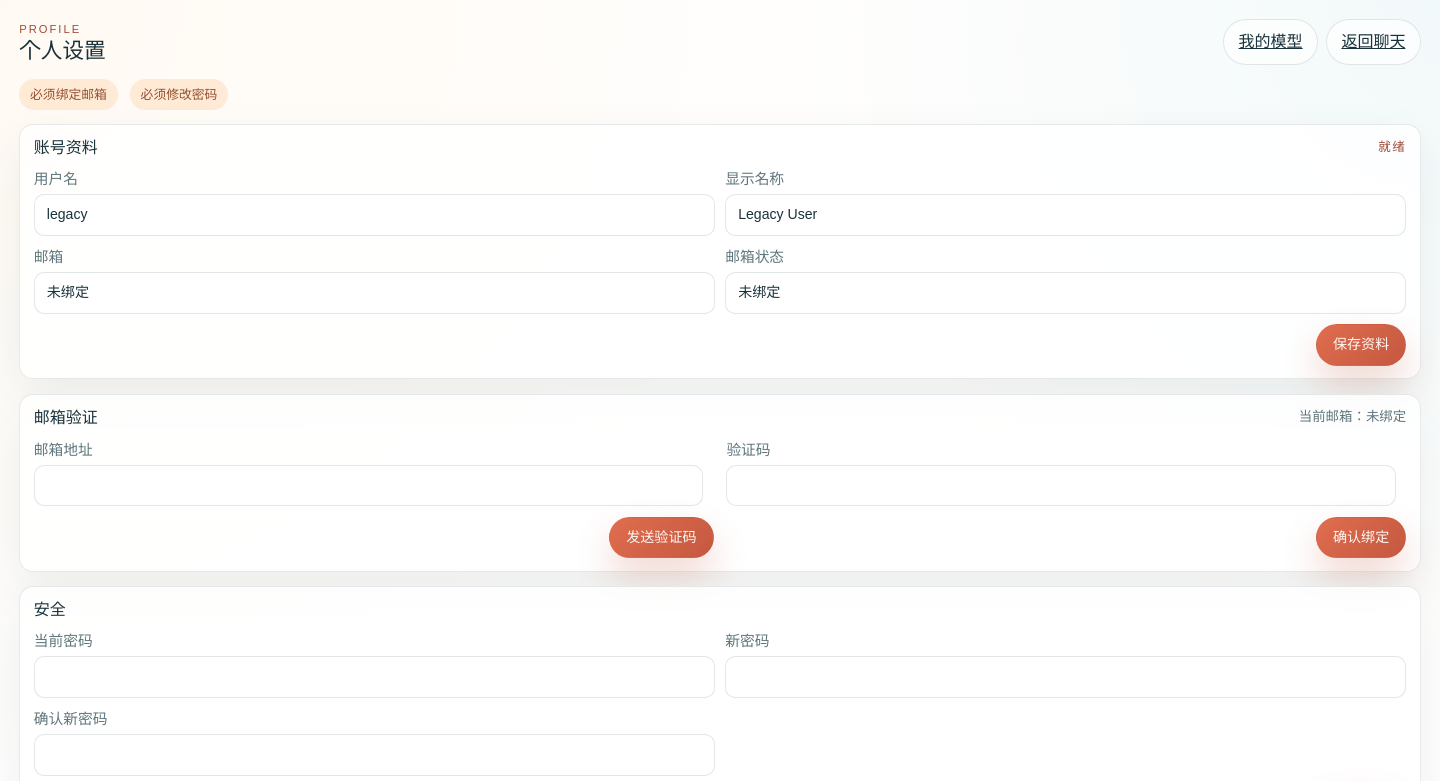
Test: ProfileView › starts email binding verification and confirms the code
Type " bound@example.com " into the field labelled "邮箱地址" at [368, 485], box x1=34 y1=465 x2=703 y2=506
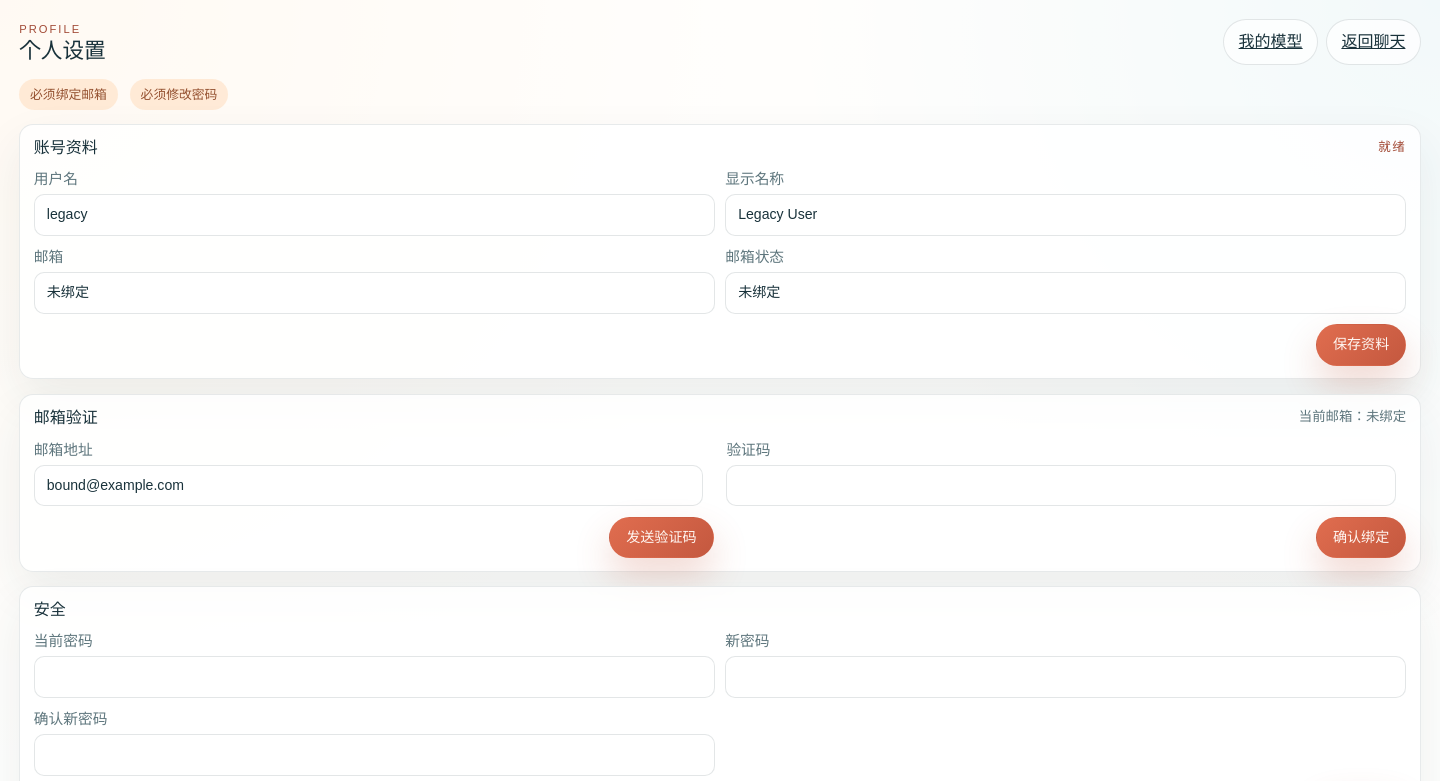
Submit the form "邮箱地址 发送验证码", box x1=34 y1=438 x2=714 y2=558
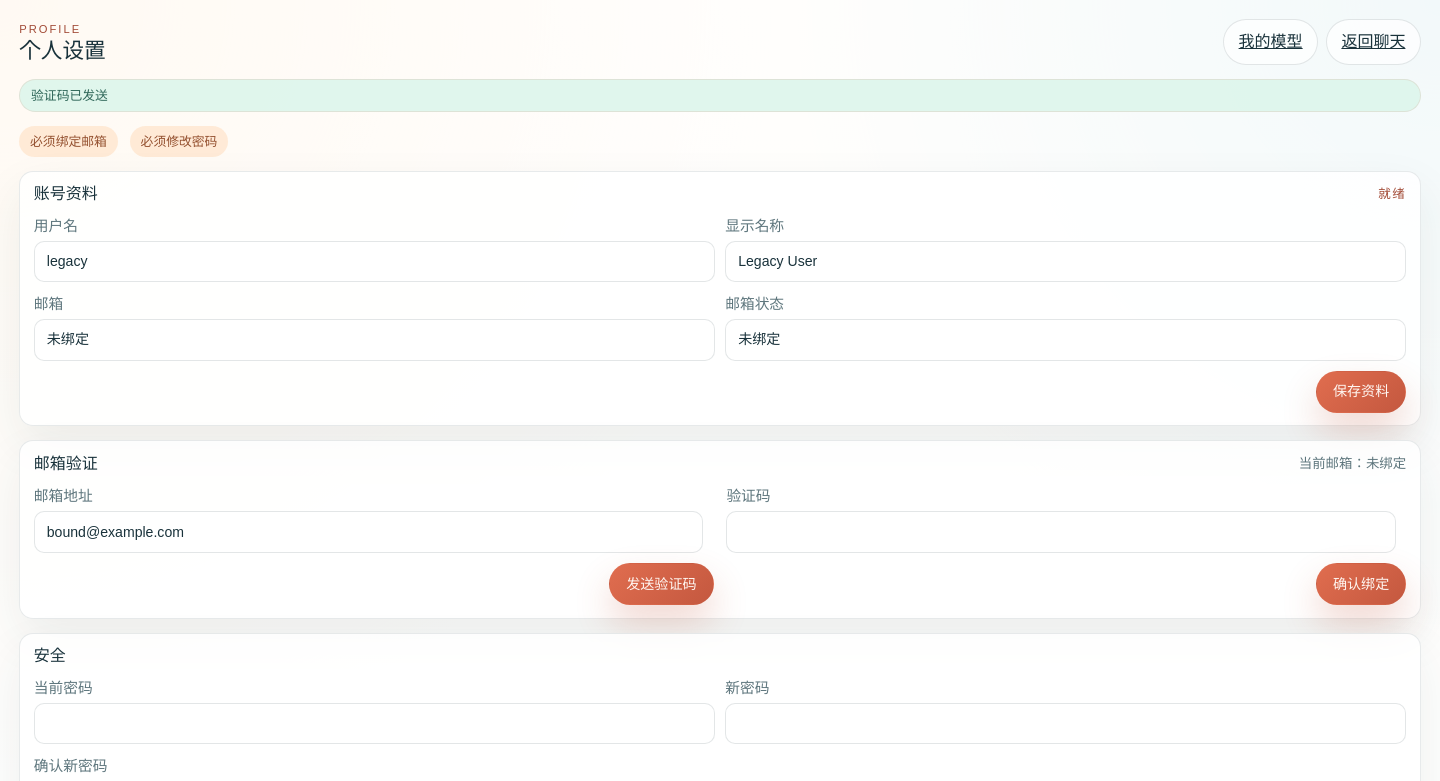
Type "123456" into the field labelled "验证码" at [1061, 532], box x1=726 y1=511 x2=1396 y2=553
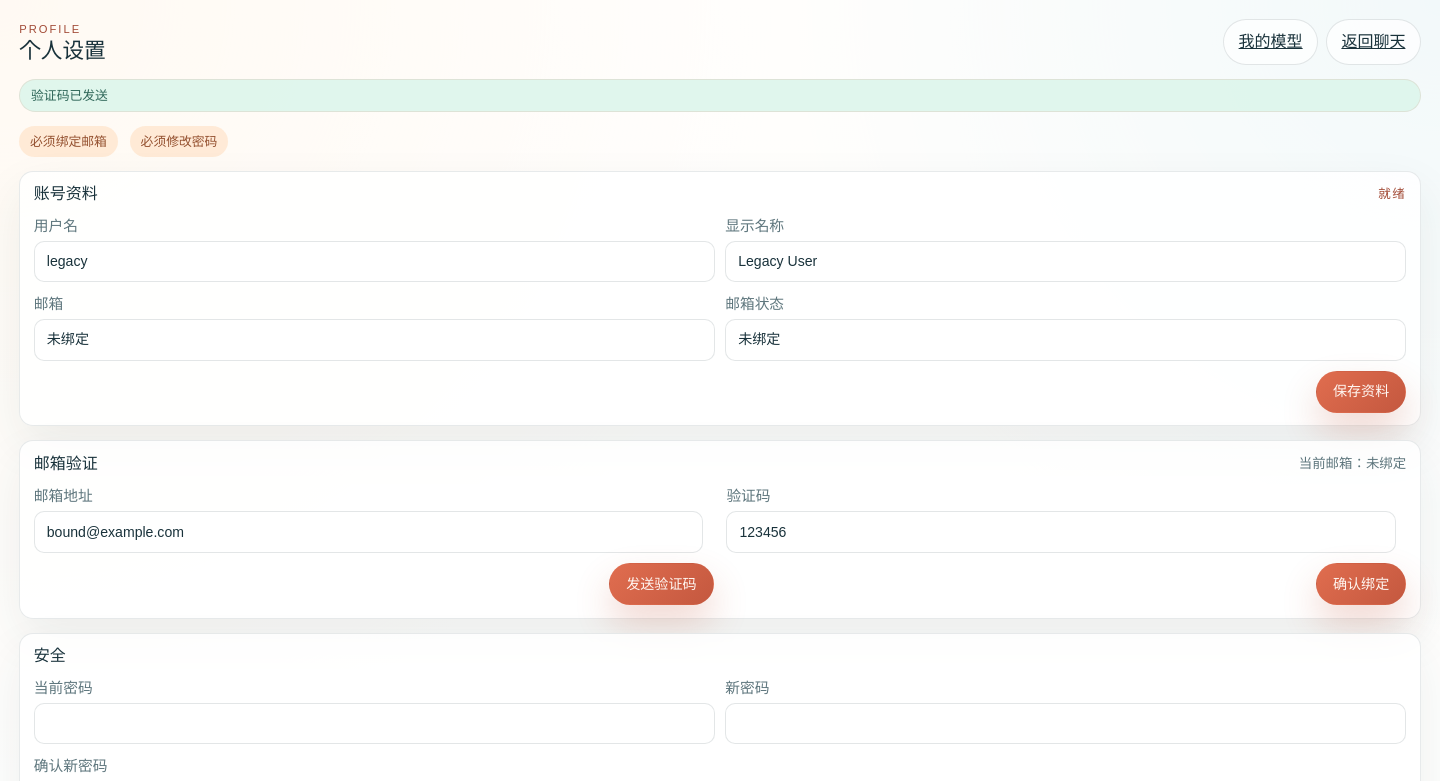
Submit the form "验证码 确认绑定", box x1=726 y1=485 x2=1406 y2=605
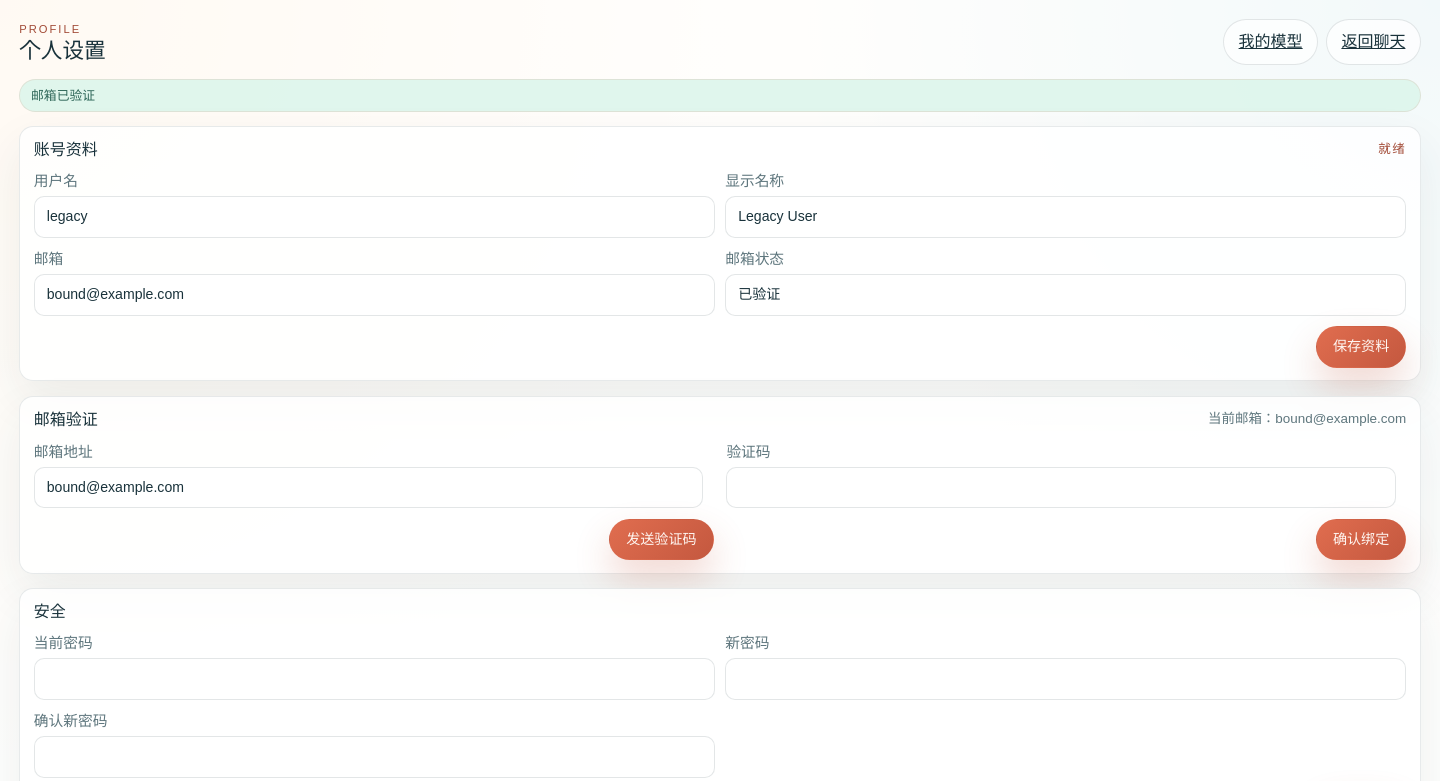
Check: the text "bound@example.com" is shown, box x1=1208 y1=411 x2=1406 y2=426
